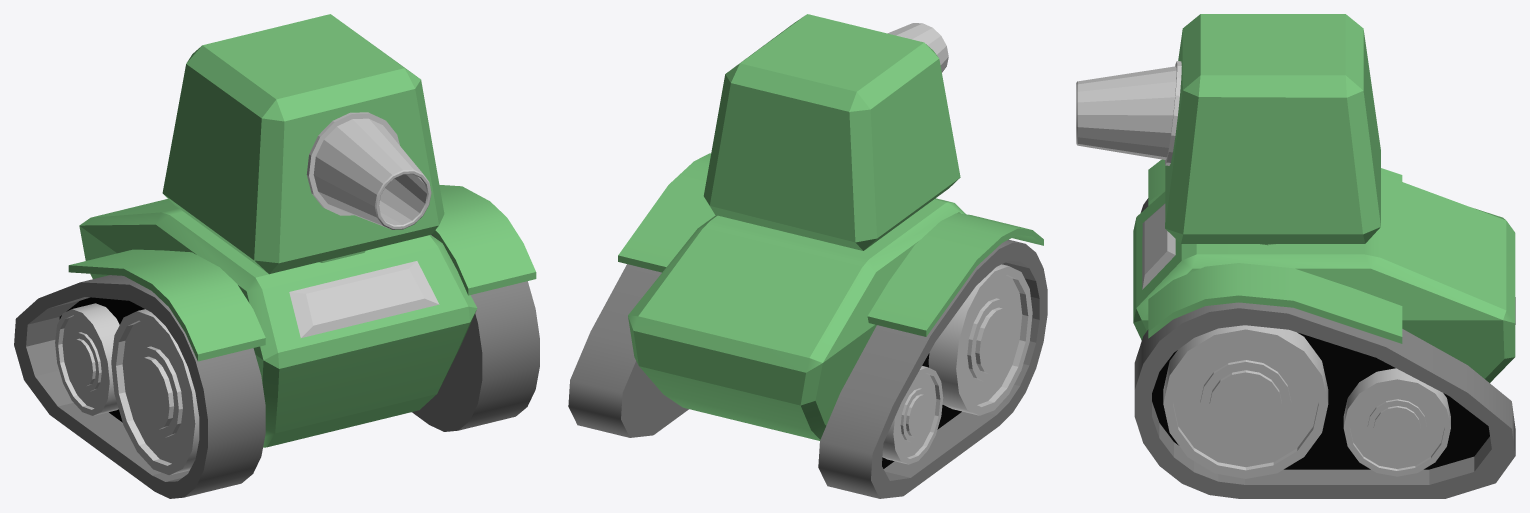
Rendered from Green Tank.fbx.
3 renders of one model, left to right at view 1: azimuth 30°, elevation 25°; view 2: azimuth 150°, elevation 25°; view 3: azimuth 270°, elevation 25°, orthographic. The views are drawn at different scales.
Visible parts, largest first — view 1: Head, Body, Right_Wheel (×2), Mudguard (×2), Wheelcap_Big, Canon, Wheelcap_Medium; view 2: Head, Body, Right_Wheel (×2), Mudguard (×2), Wheelcap_Big, Wheelcap_Medium, Canon; view 3: Head, Right_Wheel, Body, Wheelcap_Big, Mudguard (×2), Wheelcap_Medium, Canon.
Boxes of the visible parts, x1,y1,x2,y2 form: Head: (162, 14, 444, 274); Body: (79, 199, 477, 447); Right_Wheel (×2): (14, 234, 539, 498); Mudguard (×2): (68, 185, 536, 361); Wheelcap_Big: (111, 309, 199, 475); Canon: (306, 112, 431, 229); Wheelcap_Medium: (55, 303, 119, 415); Head: (703, 14, 960, 250); Body: (628, 198, 966, 440); Right_Wheel (×2): (568, 239, 1047, 498); Mudguard (×2): (618, 153, 1043, 336); Wheelcap_Big: (928, 264, 1032, 415); Wheelcap_Medium: (882, 366, 943, 464); Canon: (887, 23, 948, 72); Head: (1165, 14, 1380, 243); Right_Wheel: (1134, 302, 1515, 498); Body: (1133, 174, 1515, 382); Wheelcap_Big: (1163, 325, 1328, 478); Mudguard (×2): (1148, 159, 1402, 343); Wheelcap_Medium: (1343, 368, 1450, 476); Canon: (1076, 61, 1181, 165).
Bounding box in the file's own units: 99.64 × 108 × 114.
